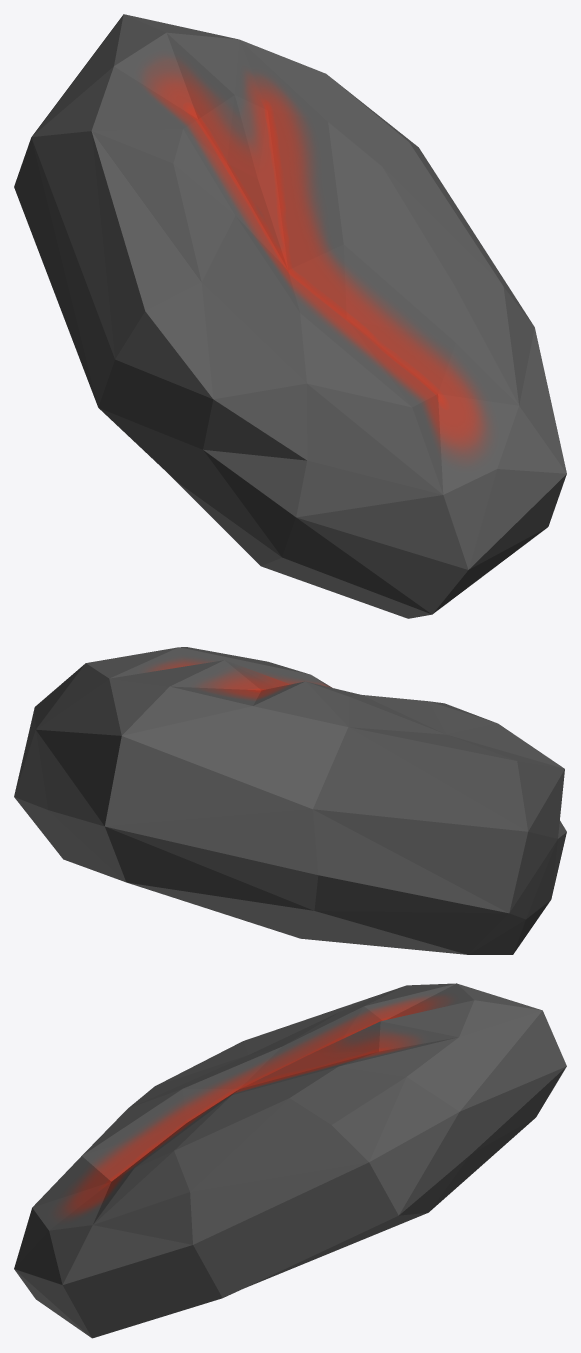
Rendered from HpRune.fbx.
3 views of the same model, one above another, from view 1: azimuth 30°, elevation 25°; view 2: azimuth 150°, elevation 25°; view 3: azimuth 270°, elevation 25° (orthographic). The views are drawn at different scales.
Visible parts, largest first — view 1: HpRune; view 2: HpRune; view 3: HpRune.
Part boxes in pixels (box(x1,y1,x2,y2)): HpRune: box(14, 14, 566, 618); HpRune: box(14, 647, 566, 954); HpRune: box(14, 983, 566, 1338).
Size of the model in its own units: 1.77 by 1.8 by 2.81.
